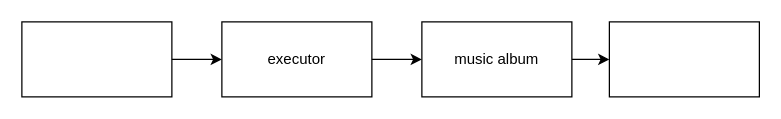
This 781x119 diagram has some shape labels left out. Each missing label, with the centre of its shape:
"genre of music" goes at [96,59].
"track" goes at [683,59].
